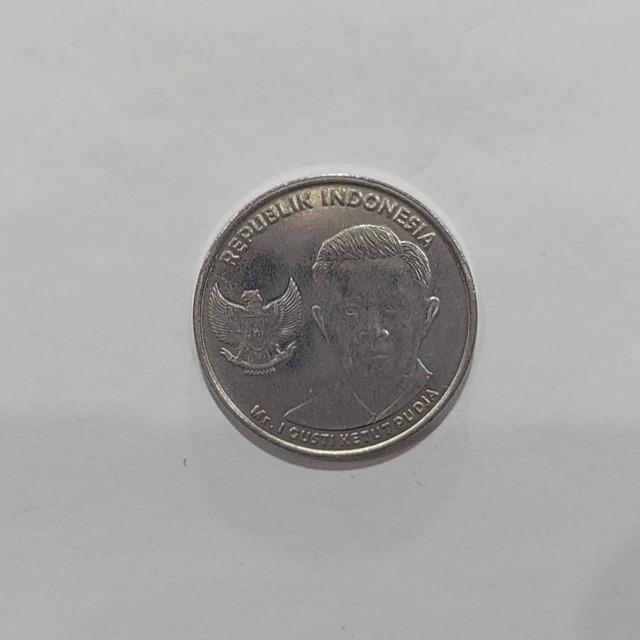Rp100: (191, 171, 479, 468), (277, 221, 443, 432)
